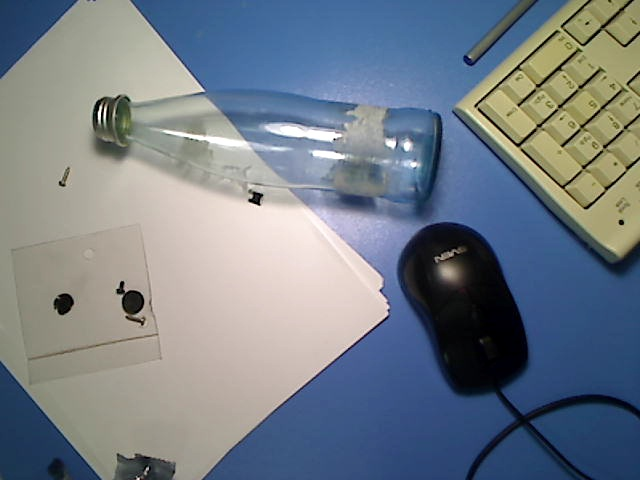bottle: (91, 89, 445, 202)
